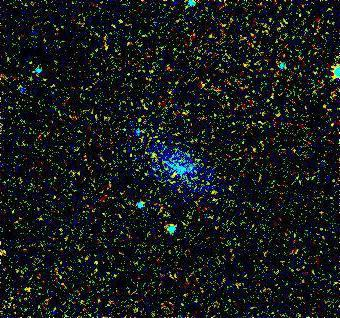star: (139, 140, 169, 170)
